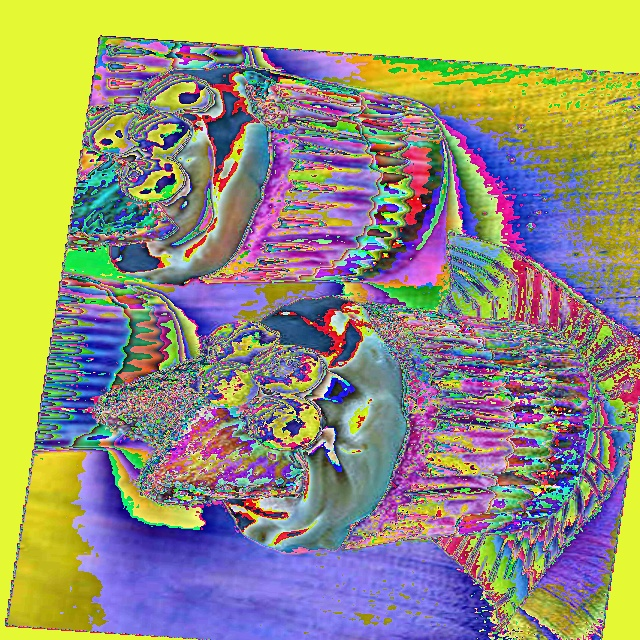background: (92, 258, 439, 553), (68, 66, 296, 287)
